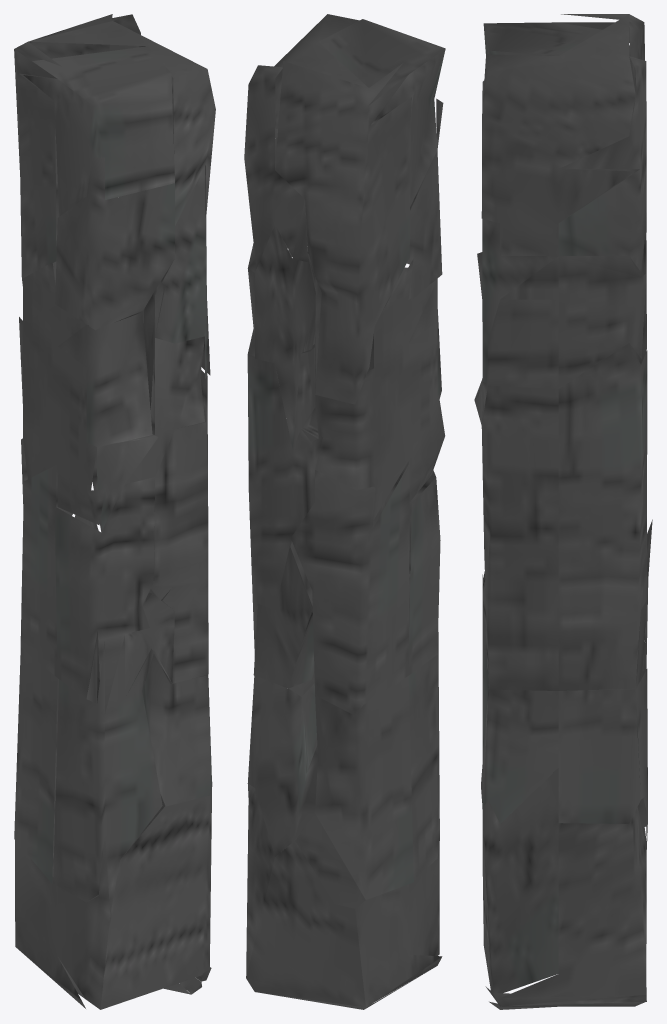
Rendered from dungeon tall column.glb.
3 renders of one model, left to right at view 1: azimuth 30°, elevation 25°; view 2: azimuth 150°, elevation 25°; view 3: azimuth 270°, elevation 25°, orthographic.
Parts seen in each view (by area): view 1: Mesh_0; view 2: Mesh_0; view 3: Mesh_0.
Part boxes in pixels (x1,y1,x2,y2): Mesh_0: (14,14,215,1009); Mesh_0: (244,14,445,1009); Mesh_0: (474,14,652,1009).
Bounding box in the file's own units: 0.102 × 0.7017 × 0.1189.
Materials: 1 (1 with a texture image).
